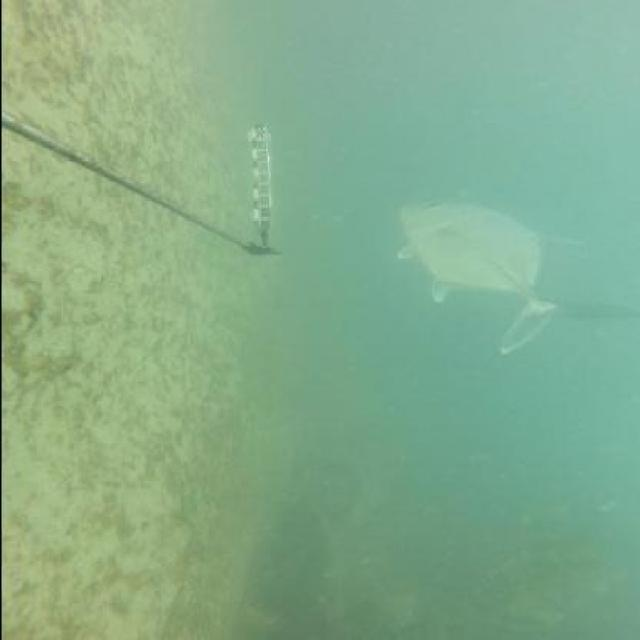Caranx: (385, 197, 638, 357)
